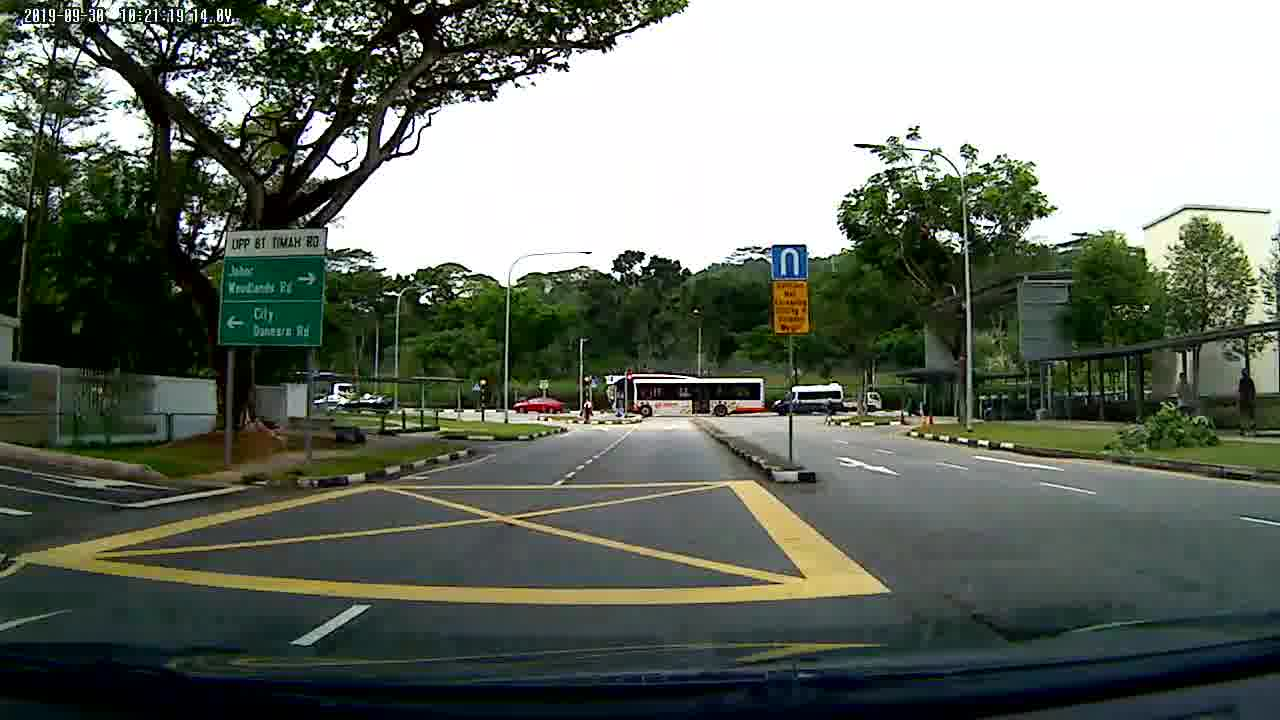bus: (612, 374, 769, 420)
car: (512, 394, 565, 416)
